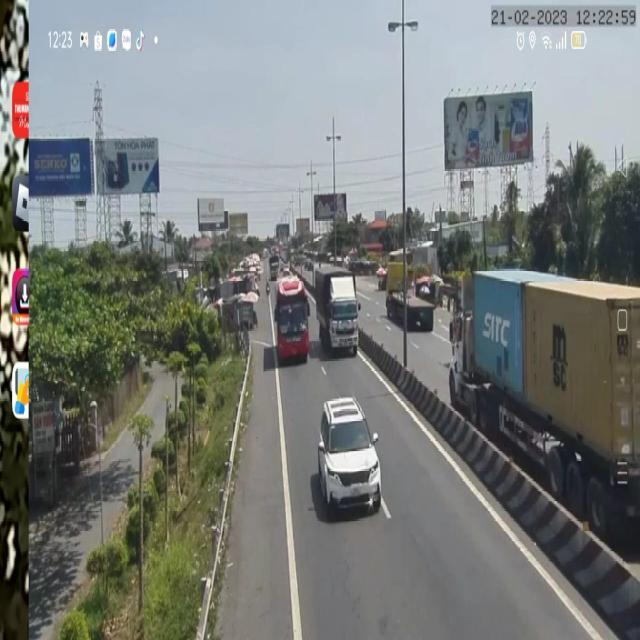bus: (272, 273, 310, 370)
car: (316, 392, 383, 518)
truck: (447, 263, 640, 568), (314, 263, 360, 358), (384, 258, 436, 334)
